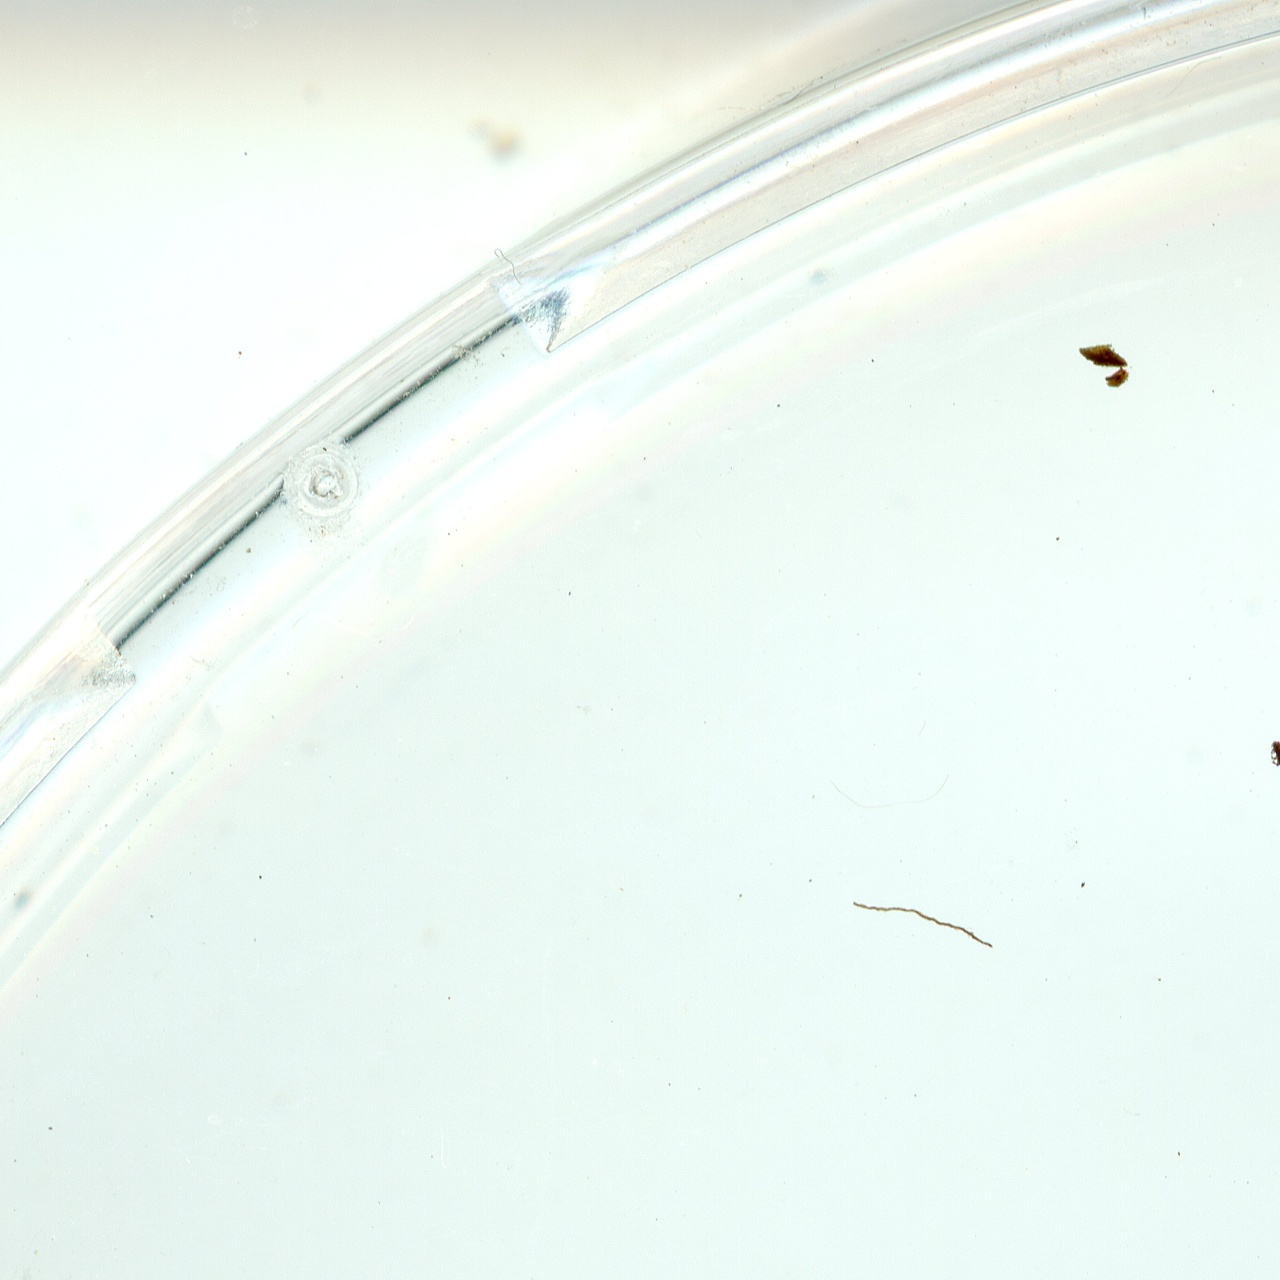arthropod: (1267, 738, 1280, 781)
